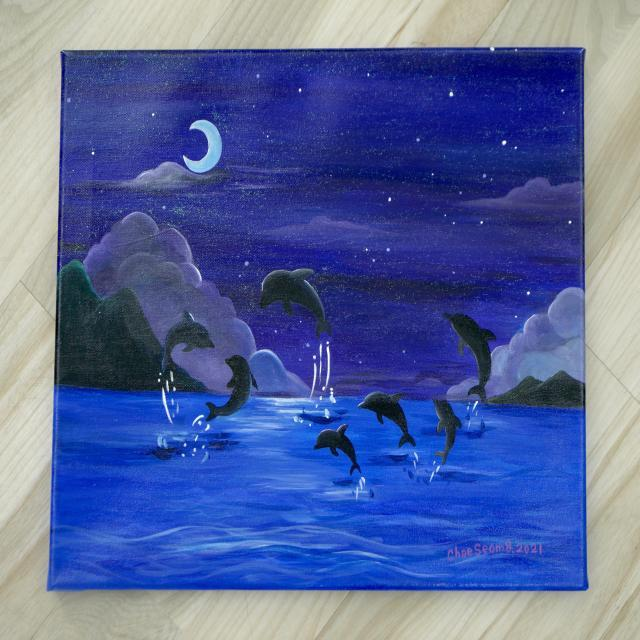painting: (48, 48, 587, 589)
